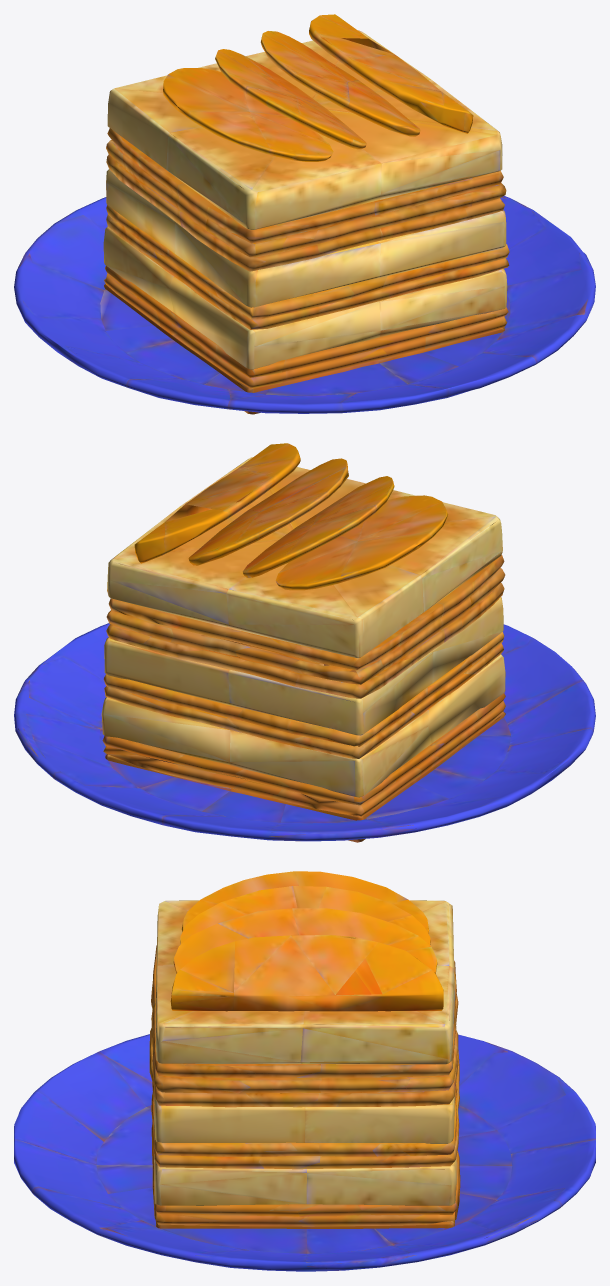
Rendered from mango-float.glb.
3 views of the same model, one above another, from view 1: azimuth 30°, elevation 25°; view 2: azimuth 150°, elevation 25°; view 3: azimuth 270°, elevation 25° (orthographic).
Parts seen in each view (by area): view 1: geometry_0; view 2: geometry_0; view 3: geometry_0.
Boxes of the visible parts, x1,y1,x2,y2 form: geometry_0: (14,14,595,414); geometry_0: (14,443,595,842); geometry_0: (14,871,595,1271).
Bounding box in the file's own units: 1 × 0.5177 × 1.
Materials: 1 (1 with a texture image).
